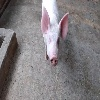heo: (39, 5, 70, 67)
